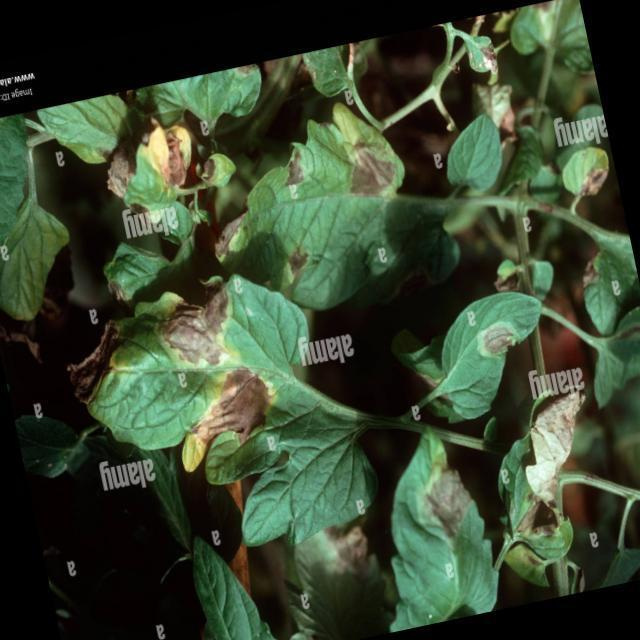Healthy Leaf: (432, 104, 510, 198)
